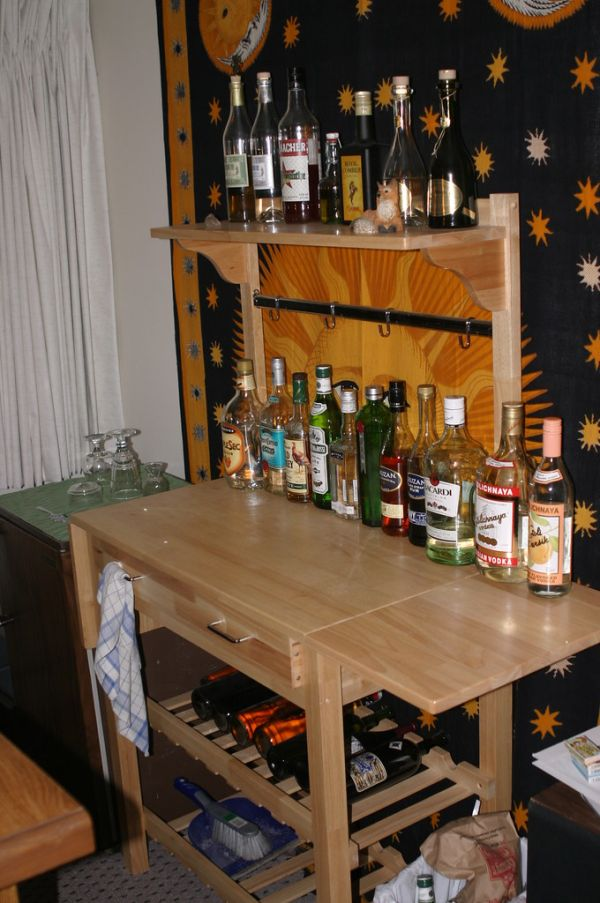tanquerayten: (357, 384, 391, 529)
unknown_bottle: (473, 402, 533, 584), (424, 395, 486, 567), (526, 417, 575, 599), (426, 68, 478, 229), (377, 75, 428, 230), (278, 67, 321, 224), (220, 359, 265, 493), (339, 91, 380, 226), (379, 379, 414, 537), (406, 384, 438, 547), (249, 72, 283, 224), (222, 75, 256, 223), (259, 357, 294, 499), (308, 365, 341, 511), (329, 386, 361, 521), (319, 131, 345, 225)
wildturkey: (284, 373, 312, 504)
